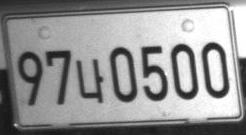0: (169, 42, 198, 100), (109, 46, 138, 103), (201, 41, 230, 98)
5: (140, 45, 169, 102)
7: (45, 49, 72, 105)
9: (16, 50, 43, 105)
나: (75, 58, 104, 103)
